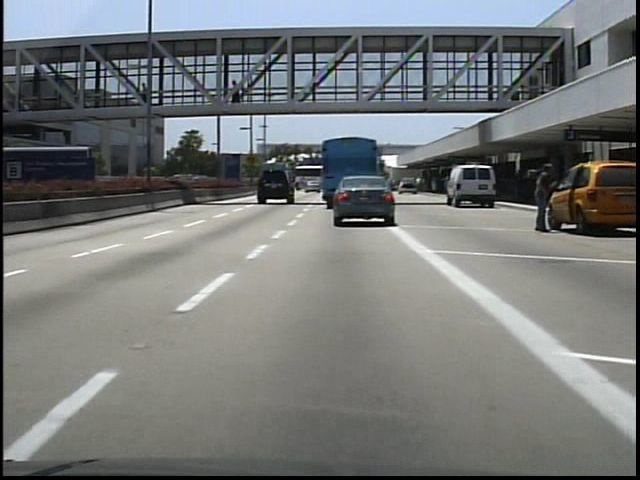person: (531, 159, 559, 233), (229, 78, 245, 111), (139, 80, 154, 107)
